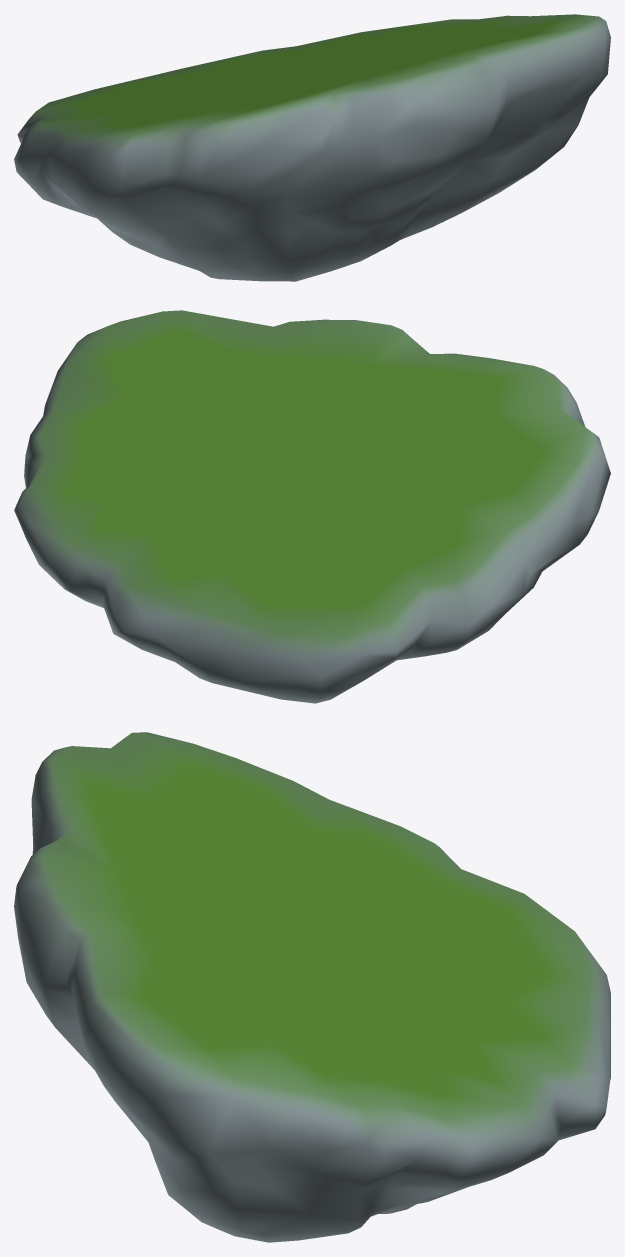
The model's file is arcade-floating-island.glb.
3 views of the same model, one above another, from view 1: azimuth 30°, elevation 25°; view 2: azimuth 150°, elevation 25°; view 3: azimuth 270°, elevation 25° (orthographic). The views are drawn at different scales.
Visible parts, largest first — view 1: Grass-topped floating rock island; view 2: Grass-topped floating rock island; view 3: Grass-topped floating rock island.
Boxes of the visible parts, x1,y1,x2,y2 form: Grass-topped floating rock island: [14, 14, 610, 281]; Grass-topped floating rock island: [14, 310, 610, 703]; Grass-topped floating rock island: [14, 732, 610, 1242].
Bounding box in the file's own units: 1 × 0.5 × 0.7483.
